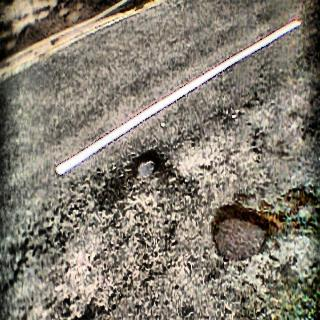pothole: (212, 197, 271, 260), (125, 148, 165, 184)
